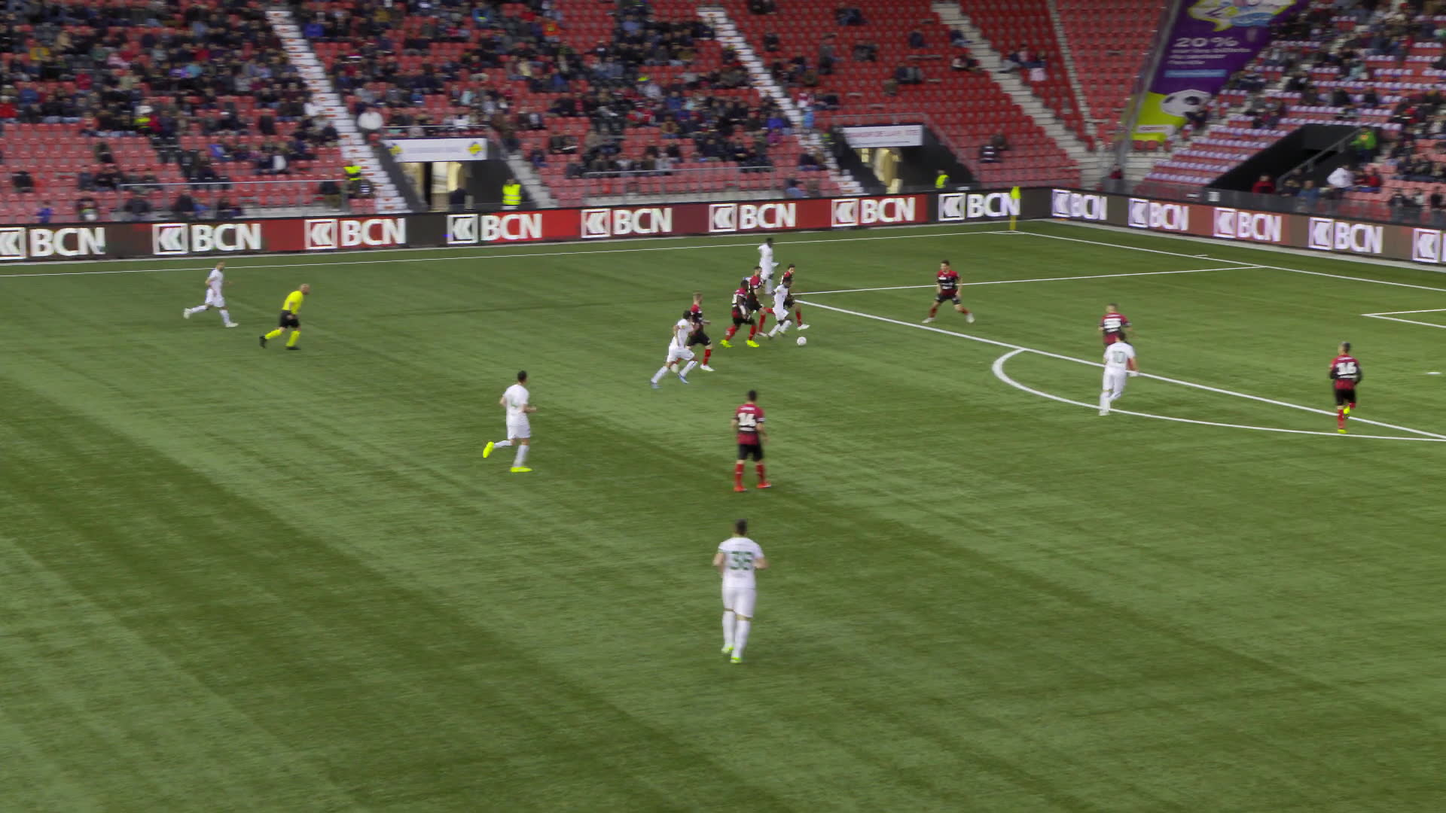ball: (796, 336, 806, 346)
player: (715, 522, 770, 663), (480, 367, 540, 471), (734, 388, 776, 491), (1098, 331, 1142, 416), (186, 260, 237, 327), (1332, 340, 1367, 433), (760, 263, 809, 327), (1100, 302, 1141, 376), (929, 259, 976, 322), (676, 293, 713, 373), (657, 310, 694, 388), (742, 234, 782, 292), (726, 280, 755, 347), (764, 277, 792, 342), (743, 267, 763, 335)
referee: (260, 283, 312, 352)
